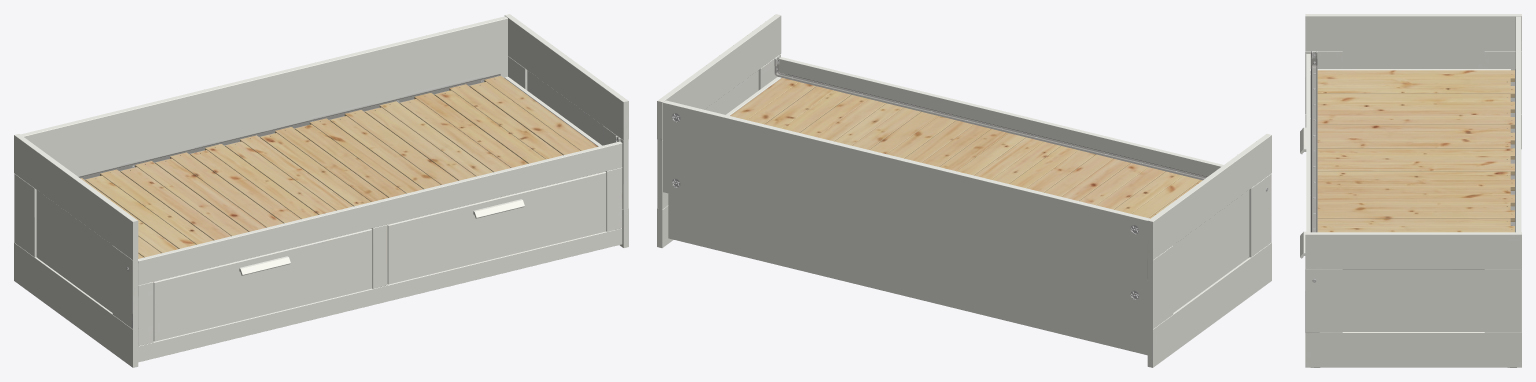
The picture shows the model from 3 angles, left to right: view 1: azimuth 30°, elevation 25°; view 2: azimuth 150°, elevation 25°; view 3: azimuth 270°, elevation 25°; orthographic projection. The views are drawn at different scales.
Parts seen in each view (by area): view 1: world; view 2: world; view 3: world.
Part boxes in pixels (x1=…): world: x1=14, y1=14, x2=628, y2=367; world: x1=657, y1=14, x2=1271, y2=367; world: x1=1300, y1=14, x2=1521, y2=367.
Bounding box in the file's own units: 2.05 × 0.58 × 0.87.
1 material, 1 textured.
